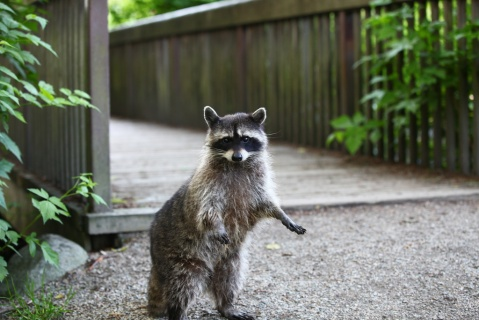Raccoon: (147, 105, 303, 319)
